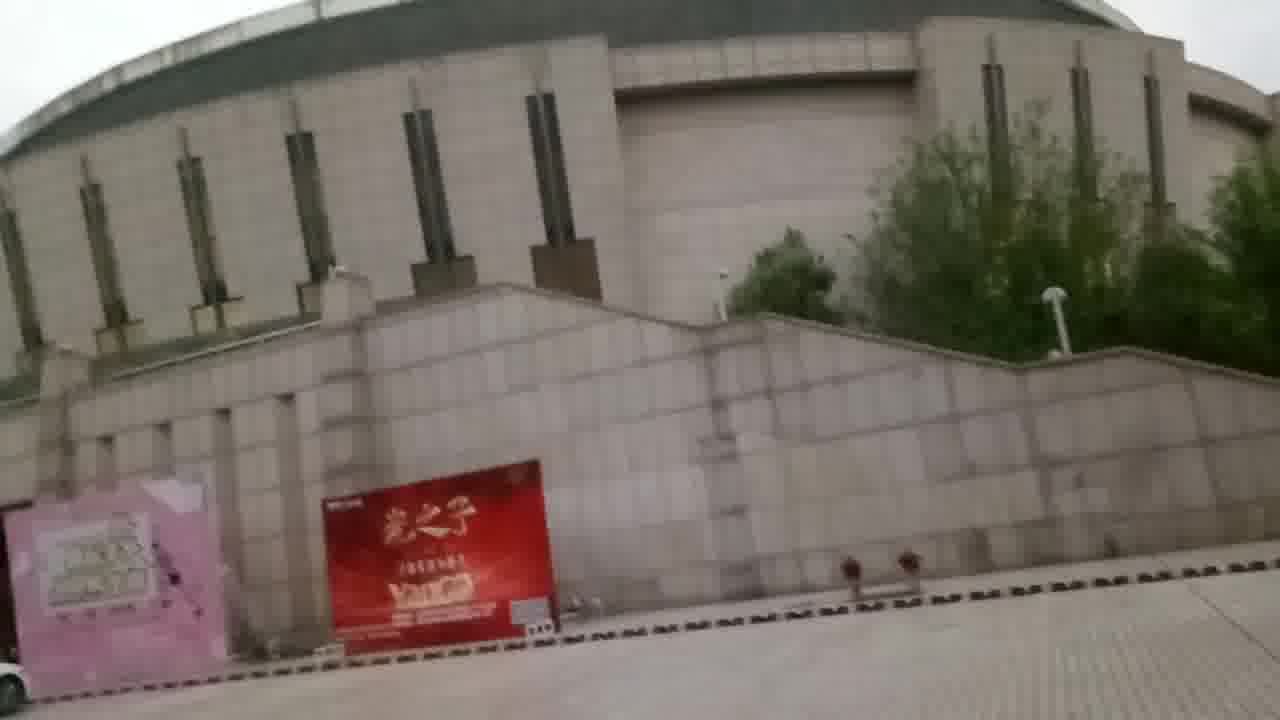zhongtiww: (10, 4, 1280, 599)
